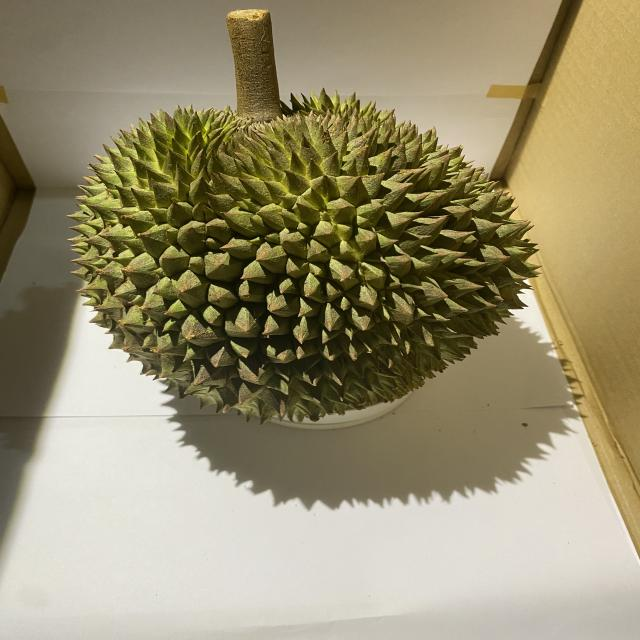immature: (66, 88, 544, 426)
